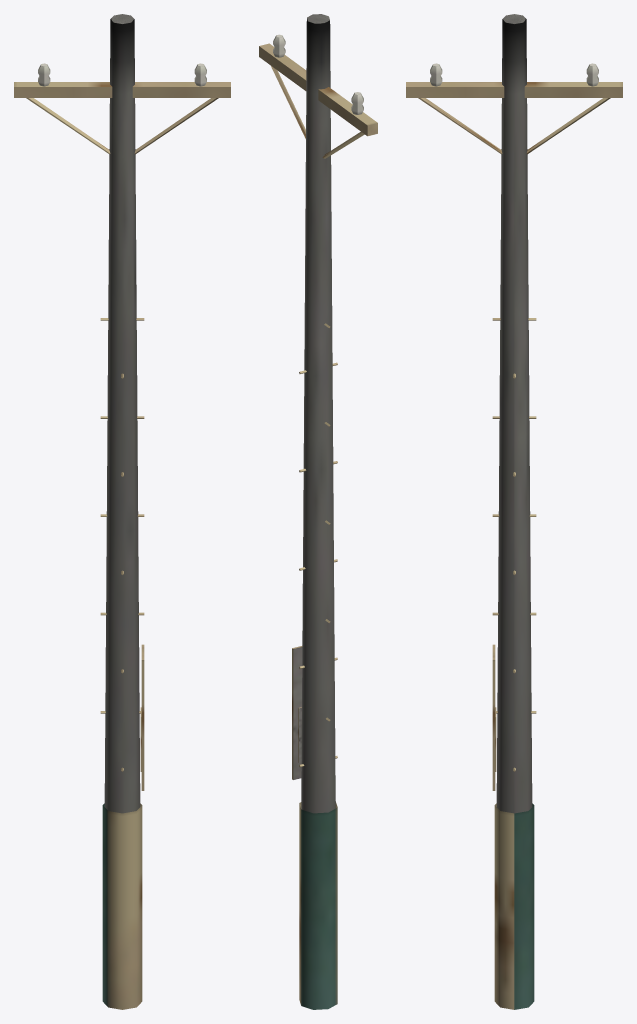
Rendered from utility_pole.fbx.
3 renders of one model, left to right at view 1: azimuth 90°, elevation 25°; view 2: azimuth 210°, elevation 25°; view 3: azimuth 270°, elevation 25°, orthographic.
Visible parts, largest first — view 1: utility_pole; view 2: utility_pole; view 3: utility_pole.
Boxes of the visible parts, x1=… form: utility_pole: x1=14, y1=14, x2=230, y2=1009; utility_pole: x1=259, y1=14, x2=377, y2=1009; utility_pole: x1=406, y1=14, x2=622, y2=1009.
Bounding box in the file's own units: 0.36 × 9 × 1.8.
